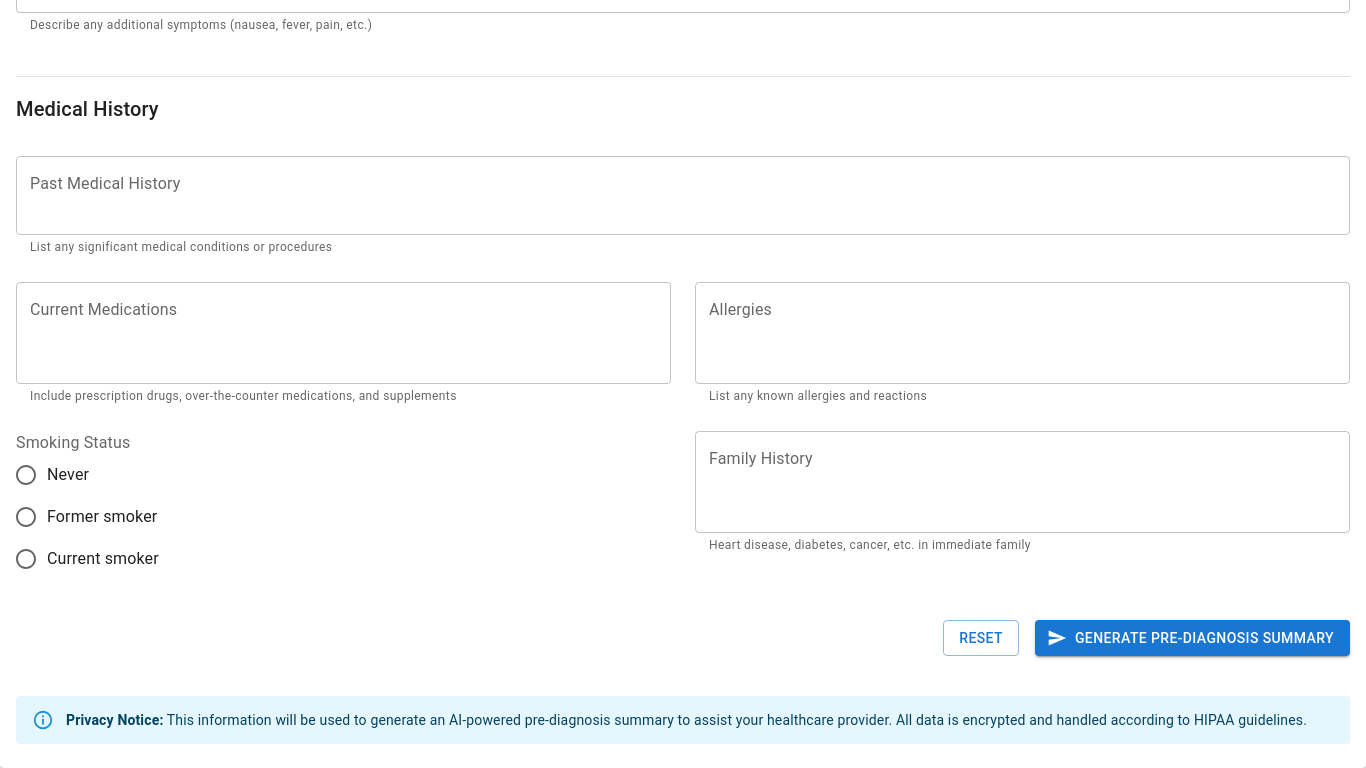
PreDiagnosisQuestionnaire › clears validation errors when user starts typing
(page scrolled)
Note: Submit to trigger validation errors
Click the button "Generate Pre-Diagnosis Summary" at (1192, 638), box [1035,620,1350,656]
(page scrolled)
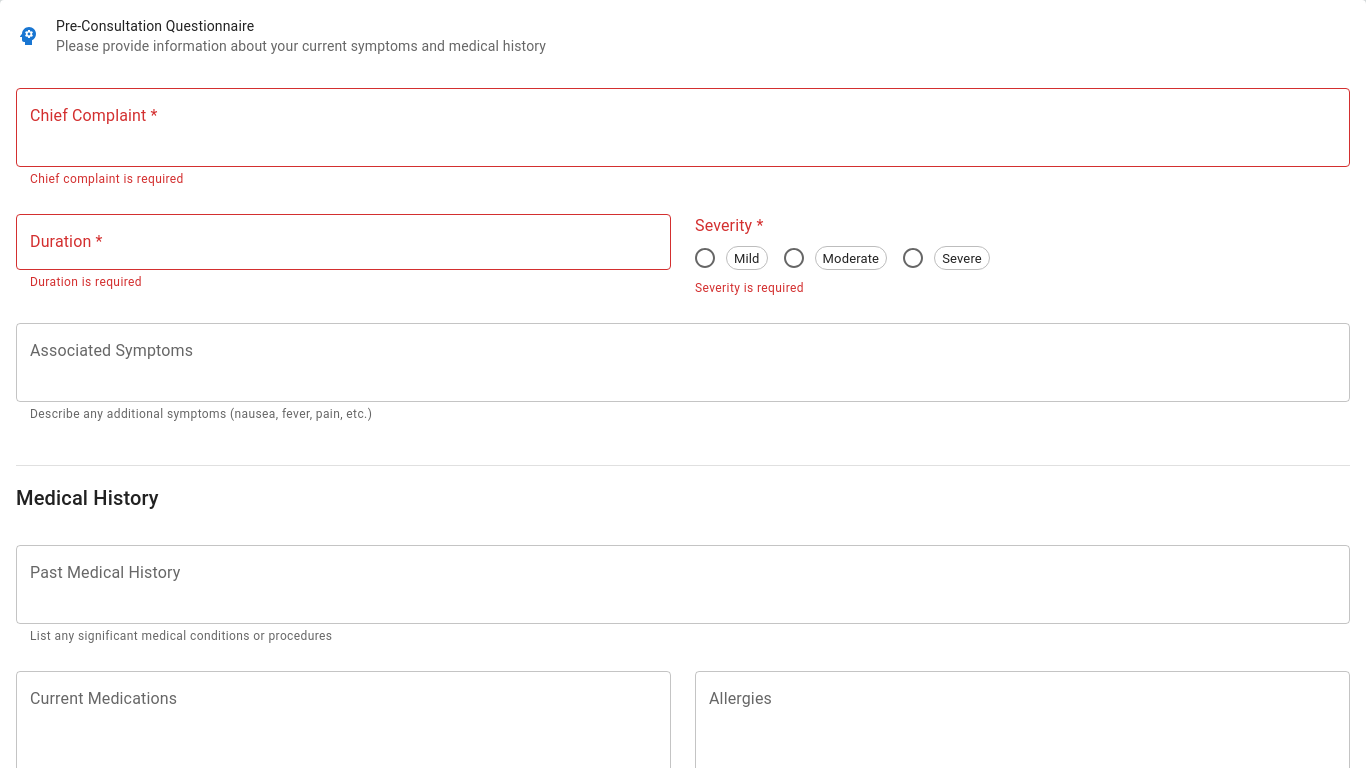
Now the text "Chief complaint is required" is shown, box [30,172,184,186]
Note: Start typing in the field
Type "C" into the text box labelled "Chief Complaint *" at (683, 128), box [30,104,1336,150]
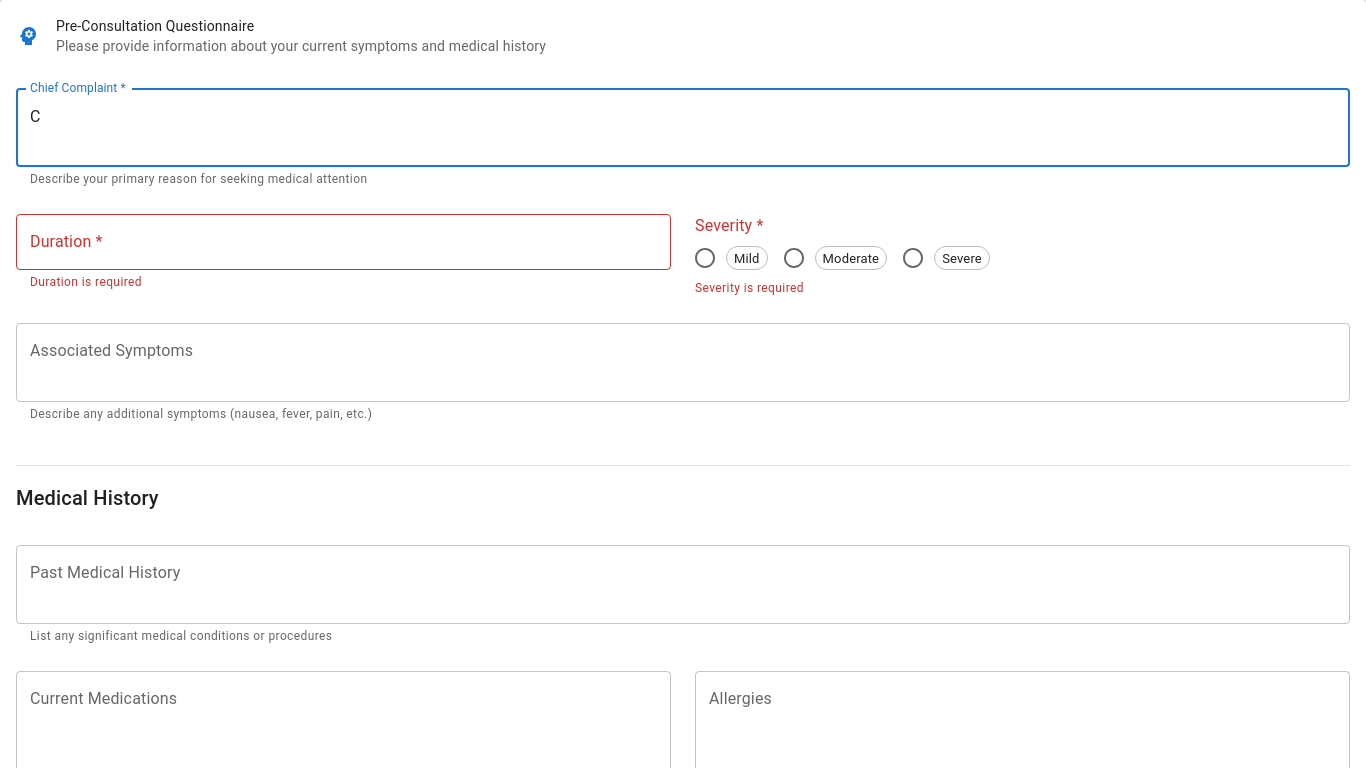
Now the text "Chief complaint is required" is gone
